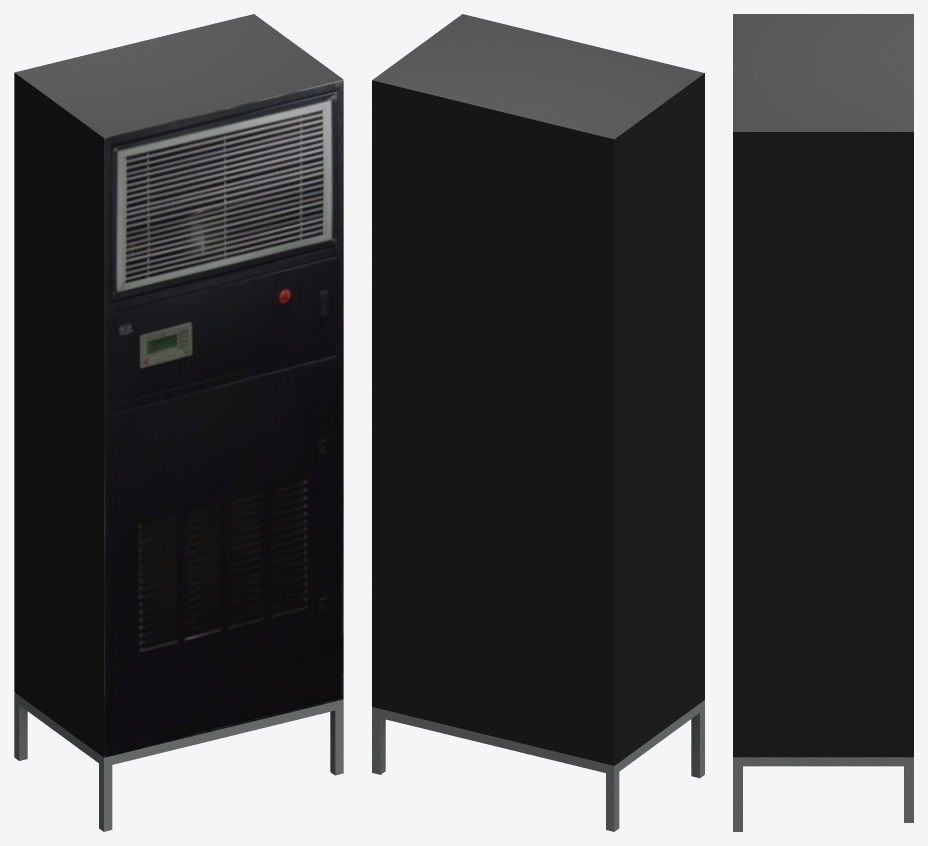
Rendered from jiankong.obj.
3 renders of one model, left to right at view 1: azimuth 30°, elevation 25°; view 2: azimuth 150°, elevation 25°; view 3: azimuth 270°, elevation 25°, orthographic.
Parts seen in each view (by area): view 1: shebei1; view 2: shebei1; view 3: shebei1.
Boxes of the visible parts, left/top/right/bottom form: shebei1: left=14, top=14, right=343, bottom=831; shebei1: left=372, top=14, right=704, bottom=831; shebei1: left=733, top=14, right=913, bottom=831.
Size of the model in its own units: 85 by 235 by 55.
